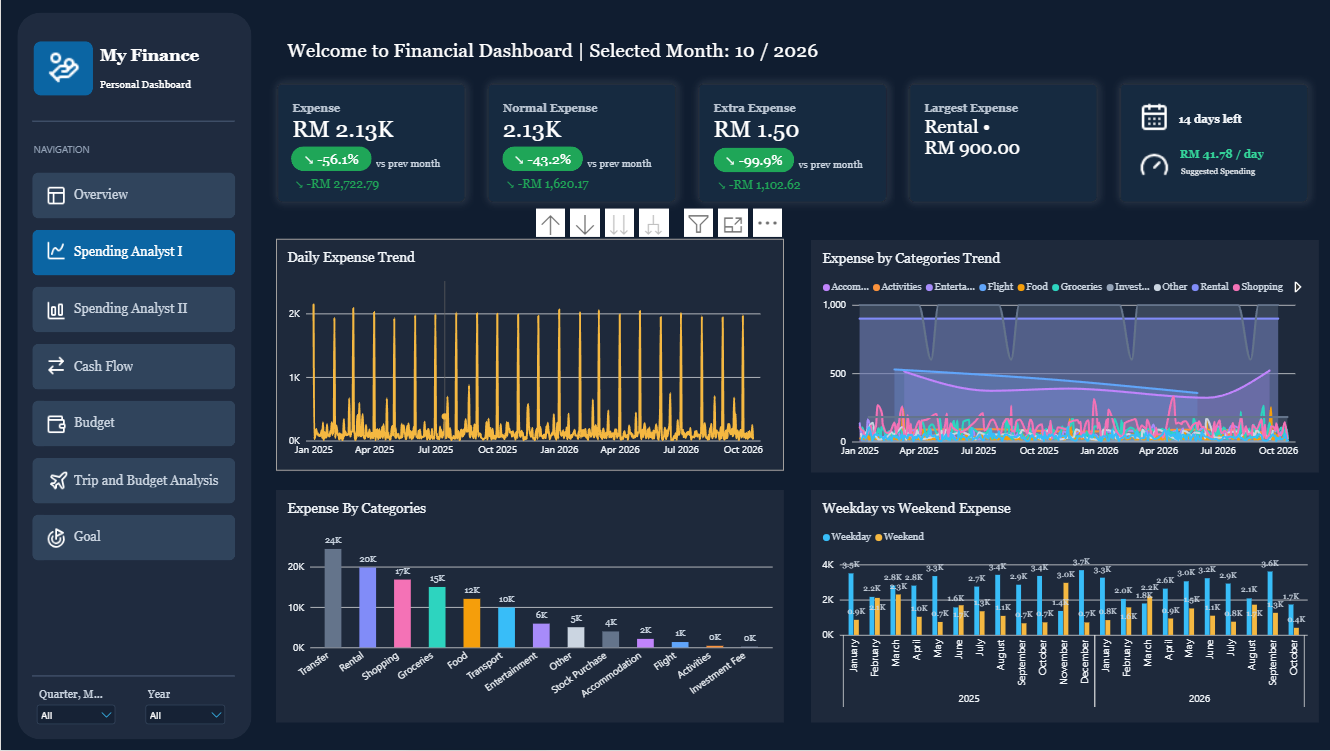

What the dashboard file says about the page in this screenshot:
{"tool":"powerbi","page":{"name":"Spending Analyst I","canvas":[1920,1080],"ordinal":2},"visuals":[{"type":"shape","box":[22.9,17.1,337.1,1045.7],"z":0,"group":"g6"},{"type":"shape","box":[47,58,85.5,78.2],"z":0,"group":"g7"},{"type":"lineChart","title":"Daily Expense Trend","fields":{"Category":["DateTable.Date.Variation.Date Hierarchy.Year","DateTable.Date.Variation.Date Hierarchy.Quarter","DateTable.Date.Variation.Date Hierarchy.Month","DateTable.Date.Variation.Date Hierarchy.Day"],"Y":["Dax Normal.Expense"]},"box":[395.4,343.3,730,334],"z":0},{"type":"image","box":[65.3,73,50.8,46.7],"z":1000,"group":"g7"},{"type":"cardVisual","fields":{"Data":["DAX CP.C Expense","DAX CP.C Normal Expense","DAX CP.C Extra Expense","DynamicText.Text Largest Expense","Dynamic Financial Status.Icon Savings Status"]},"box":[384.3,108.1,1510,195],"z":1000,"group":"g1"},{"type":"cardVisual","fields":{"Data":["DynamicText.Text Expense Number Compare"]},"box":[422,246.4,207.1,32.8],"z":1000,"group":"g4"},{"type":"cardVisual","fields":{"Data":["DynamicText.Text Normal Expense Number Compare"]},"box":[725.8,246.9,207.1,32.8],"z":1000,"group":"g2"},{"type":"cardVisual","fields":{"Data":["DynamicText.Text Extra Expense Number Compare"]},"box":[1029.1,248,207.1,32.8],"z":1000,"group":"g5"},{"type":"clusteredColumnChart","title":"Weekday vs Weekend Expense","fields":{"Category":["DateTable.Date.Variation.Date Hierarchy.Year","DateTable.Date.Variation.Date Hierarchy.Month"],"Y":["Dax Normal.Weekday","Dax Normal.Weekend"]},"box":[1164.3,704.3,730,334.4],"z":1000},{"type":"slicer","fields":{"Values":["DateTable.Quarter","DateTable.Month"]},"box":[45.8,987.6,122.5,62.8],"z":1000,"group":"g6"},{"type":"group","id":"g1","title":"Group 4","box":[384.3,25,1510,278.1],"z":2000},{"type":"cardVisual","fields":{"Data":["DynamicText.Text Selected Month"]},"box":[395.7,25,813.3,95],"z":2000,"group":"g1"},{"type":"textbox","box":[142.5,63.1,188.6,70],"z":2000,"group":"g7"},{"type":"shape","box":[417.3,210.6,116.3,35.8],"z":2000,"group":"g4"},{"type":"shape","box":[721.1,211.1,116.3,35.8],"z":2000,"group":"g2"},{"type":"shape","box":[1024.4,212.2,116.3,35.8],"z":2000,"group":"g5"},{"type":"slicer","fields":{"Values":["DateTable.Year"]},"box":[202,987.6,124.4,62.8],"z":2000,"group":"g6"},{"type":"pageNavigator","box":[44.2,246.9,292.2,558.9],"z":3000,"group":"g6"},{"type":"columnChart","title":"Expense By Categories","fields":{"Category":["Categories.Category"],"Y":["Dax Normal.Expense"]},"box":[395.6,704.4,730,334],"z":3000},{"type":"cardVisual","fields":{"Data":["DynamicText.Text Expense Compare"]},"box":[417.3,211.7,116.3,27.4],"z":4000,"group":"g4"},{"type":"cardVisual","fields":{"Data":["DynamicText.Text Normal Expense Compare"]},"box":[721.1,212.2,116.3,27.4],"z":4000,"group":"g2"},{"type":"cardVisual","fields":{"Data":["DynamicText.Text Extra Expense Compare"]},"box":[1024.4,213.3,116.3,27.4],"z":4000,"group":"g5"},{"type":"image","box":[62.8,265,32.7,30],"z":4000,"group":"g6"},{"type":"areaChart","title":"Expense by Categories Trend","fields":{"Category":["DateTable.Date.Variation.Date Hierarchy.Month"],"Series":["Categories.Category"],"Y":["Dax Normal.Expense"]},"box":[1164.3,344.3,730,334],"z":4000},{"type":"group","id":"g2","title":"Group 1","box":[721.1,211.1,230,68.9],"z":5000},{"type":"image","box":[65.6,674.4,32.5,30],"z":5000,"group":"g6"},{"type":"group","id":"g3","title":"Group 5","box":[1631.8,147.3,235.5,114.5],"z":6000},{"type":"shape","box":[45,164,291,18],"z":6000,"group":"g6"},{"type":"group","id":"g4","title":"Group 1","box":[417.3,210.6,230,68.9],"z":7000,"group":"g1"},{"type":"group","id":"g5","title":"Group 1","box":[1024.4,212.2,230,68.9],"z":7000},{"type":"image","box":[62.8,758.1,32.5,30],"z":7000,"group":"g6"},{"type":"group","id":"g6","title":"Group 3","box":[22.9,17.1,337.1,1045.7],"z":8000},{"type":"textbox","box":[45.8,204.3,99.3,21.8],"z":8000,"group":"g6"},{"type":"shape","box":[45,963,291,17],"z":9000,"group":"g6"},{"type":"group","id":"g7","title":"Group 2","box":[47,58,284,78],"z":10000,"group":"g6"},{"type":"cardVisual","fields":{"Data":["Dynamic Financial Status.Text Day Lefts"]},"box":[1693,154.2,135,30],"z":10000,"group":"g3"},{"type":"image","box":[62.8,345,32.7,30],"z":11000,"group":"g6"},{"type":"image","box":[62.8,430,32.5,30],"z":12000,"group":"g6"},{"type":"cardVisual","fields":{"Data":["Dynamic Financial Status.Text Suggestion Spending"]},"box":[1694.9,205.5,172.5,30],"z":13000,"group":"g3"},{"type":"image","box":[62.4,510,32.5,30],"z":13000,"group":"g6"},{"type":"image","box":[1631.8,147.3,52.5,43.1],"z":14000,"group":"g3"},{"type":"image","box":[62.8,593.6,32.7,30],"z":14000,"group":"g6"},{"type":"image","box":[1631.8,214.9,52.5,43.1],"z":15000,"group":"g3"},{"type":"textbox","box":[1696.6,235.5,140,26.7],"z":16000,"group":"g3"},{"type":"textbox","box":[539.4,225.3,107.4,21.1],"z":18000,"group":"g4"},{"type":"textbox","box":[843.2,225.8,107.4,21.1],"z":18000,"group":"g2"},{"type":"textbox","box":[1146.5,226.9,107.4,21.1],"z":18000,"group":"g5"}]}

Visuals, with their boxes on the page's 1920x1080 design canvas (x1, y1, x2, y2). These are canvas units, not pixel positions in the 1330x751 screenshot, which may show the page scaled, cropped or inside an application window:
shape: region(23, 17, 360, 1063)
shape: region(47, 58, 132, 136)
"Daily Expense Trend" lineChart: region(395, 343, 1125, 677)
image: region(65, 73, 116, 120)
cardVisual - DAX CP.C Expense x DAX CP.C Normal Expense: region(384, 108, 1894, 303)
cardVisual - DynamicText.Text Expense Number Compare: region(422, 246, 629, 279)
cardVisual - DynamicText.Text Normal Expense Number Compare: region(726, 247, 933, 280)
cardVisual - DynamicText.Text Extra Expense Number Compare: region(1029, 248, 1236, 281)
"Weekday vs Weekend Expense" clusteredColumnChart: region(1164, 704, 1894, 1039)
slicer - DateTable.Quarter x DateTable.Month: region(46, 988, 168, 1050)
"Group 4" group: region(384, 25, 1894, 303)
cardVisual - DynamicText.Text Selected Month: region(396, 25, 1209, 120)
textbox: region(142, 63, 331, 133)
shape: region(417, 211, 534, 246)
shape: region(721, 211, 837, 247)
shape: region(1024, 212, 1141, 248)
slicer - DateTable.Year: region(202, 988, 326, 1050)
pageNavigator: region(44, 247, 336, 806)
"Expense By Categories" columnChart: region(396, 704, 1126, 1038)
cardVisual - DynamicText.Text Expense Compare: region(417, 212, 534, 239)
cardVisual - DynamicText.Text Normal Expense Compare: region(721, 212, 837, 240)
cardVisual - DynamicText.Text Extra Expense Compare: region(1024, 213, 1141, 241)
image: region(63, 265, 96, 295)
"Expense by Categories Trend" areaChart: region(1164, 344, 1894, 678)
"Group 1" group: region(721, 211, 951, 280)
image: region(66, 674, 98, 704)
"Group 5" group: region(1632, 147, 1867, 262)
shape: region(45, 164, 336, 182)
"Group 1" group: region(417, 211, 647, 280)
"Group 1" group: region(1024, 212, 1254, 281)
image: region(63, 758, 95, 788)
"Group 3" group: region(23, 17, 360, 1063)
textbox: region(46, 204, 145, 226)
shape: region(45, 963, 336, 980)
"Group 2" group: region(47, 58, 331, 136)
cardVisual - Dynamic Financial Status.Text Day Lefts: region(1693, 154, 1828, 184)
image: region(63, 345, 96, 375)
image: region(63, 430, 95, 460)
cardVisual - Dynamic Financial Status.Text Suggestion Spending: region(1695, 206, 1867, 236)
image: region(62, 510, 95, 540)
image: region(1632, 147, 1684, 190)
image: region(63, 594, 96, 624)
image: region(1632, 215, 1684, 258)
textbox: region(1697, 236, 1837, 262)
textbox: region(539, 225, 647, 246)
textbox: region(843, 226, 951, 247)
textbox: region(1146, 227, 1254, 248)
